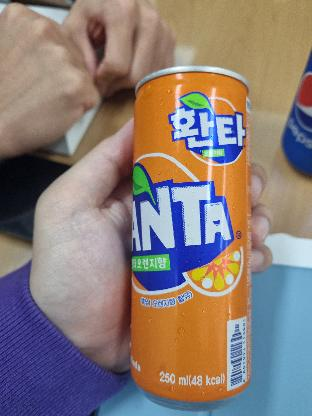Can: (130, 74, 248, 398)
